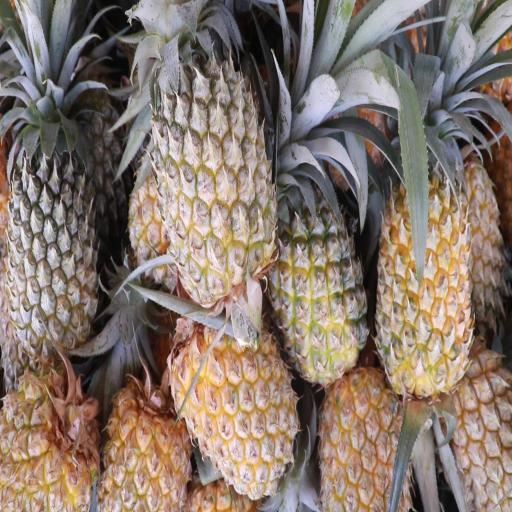------------------------------: (145, 0, 280, 315), (265, 130, 370, 382)
Pineapple - v8 v1: (370, 110, 477, 410), (166, 299, 300, 495), (316, 358, 418, 512), (0, 367, 109, 510), (98, 372, 196, 512), (445, 504, 451, 512)
